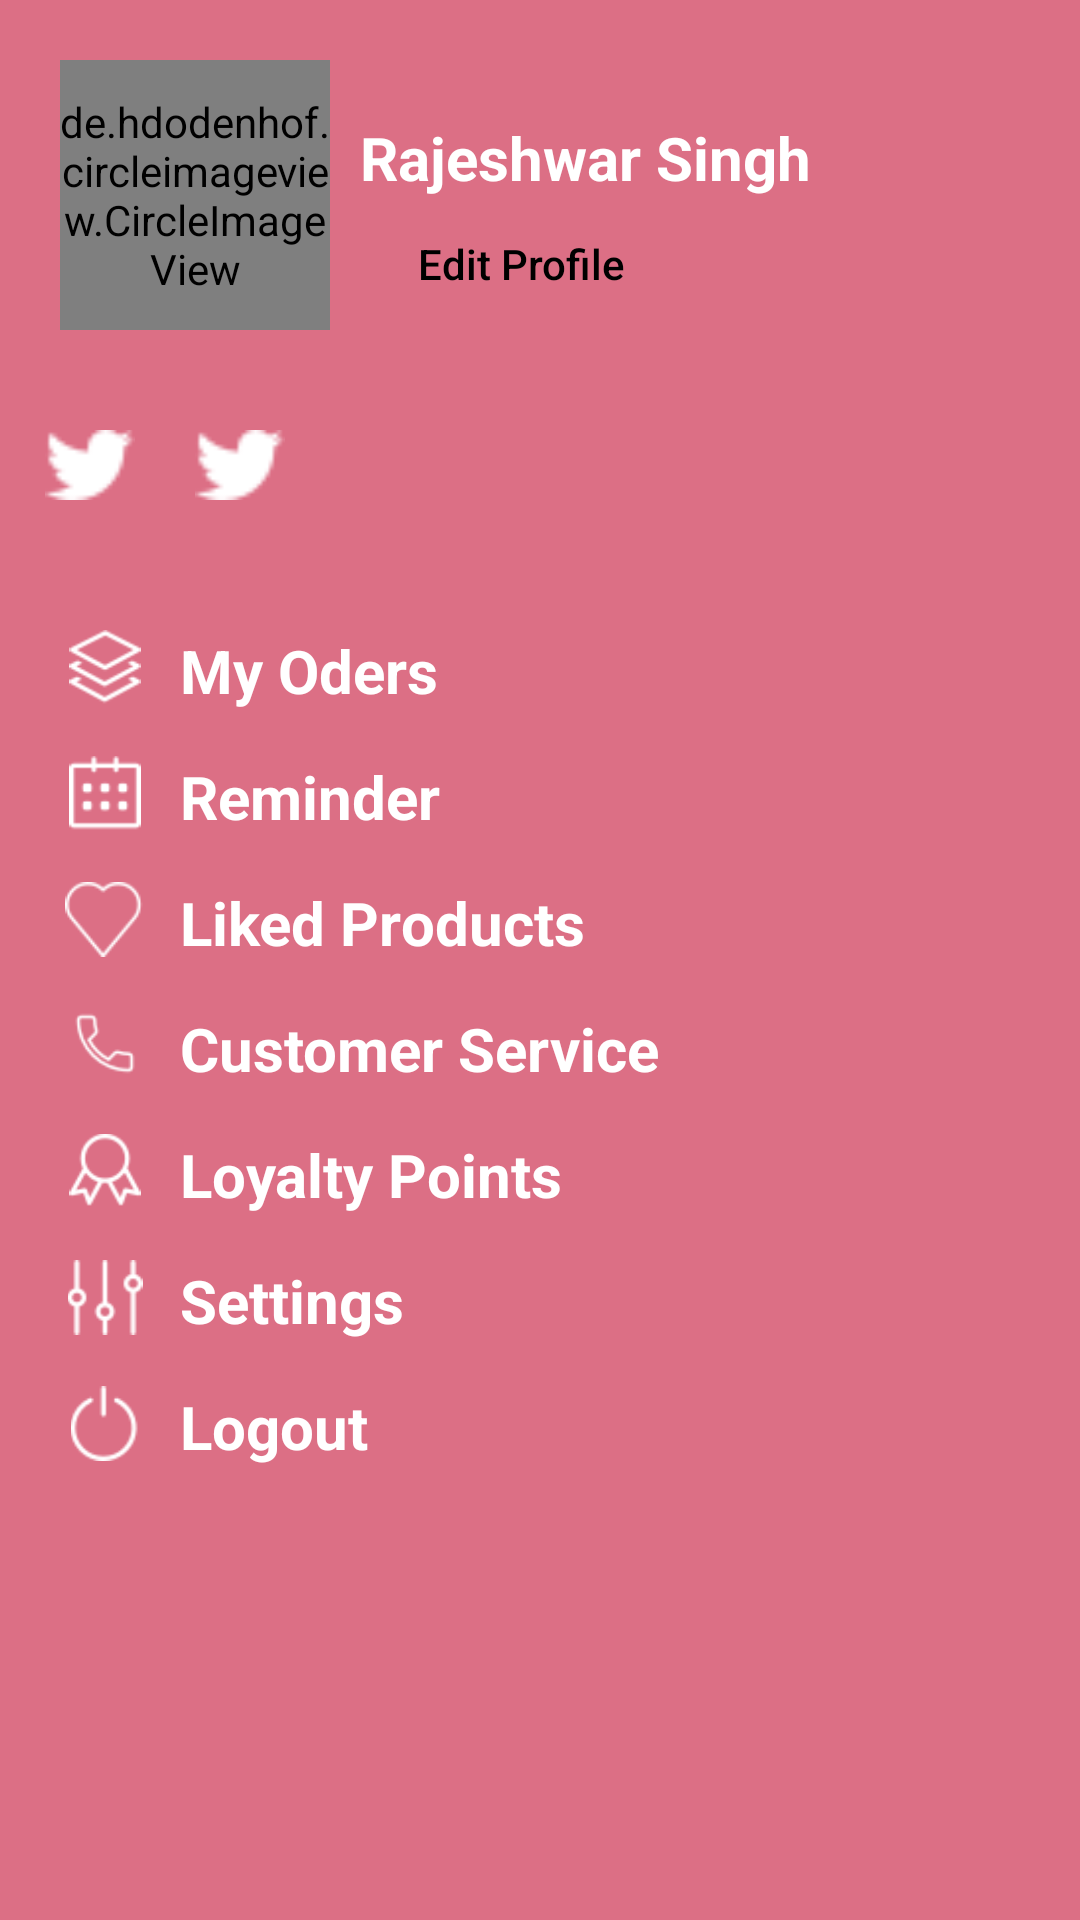

Locate icon controls on the screen. Image size 1080px x 1920px, boxes as {"left": x1, "top": y1, "right": x2, "bottom": y2}.
option callendar: {"left": 69, "top": 756, "right": 141, "bottom": 829}
option my love: {"left": 65, "top": 882, "right": 141, "bottom": 957}
option my order: {"left": 69, "top": 630, "right": 141, "bottom": 703}
option poin: {"left": 69, "top": 1134, "right": 141, "bottom": 1206}
